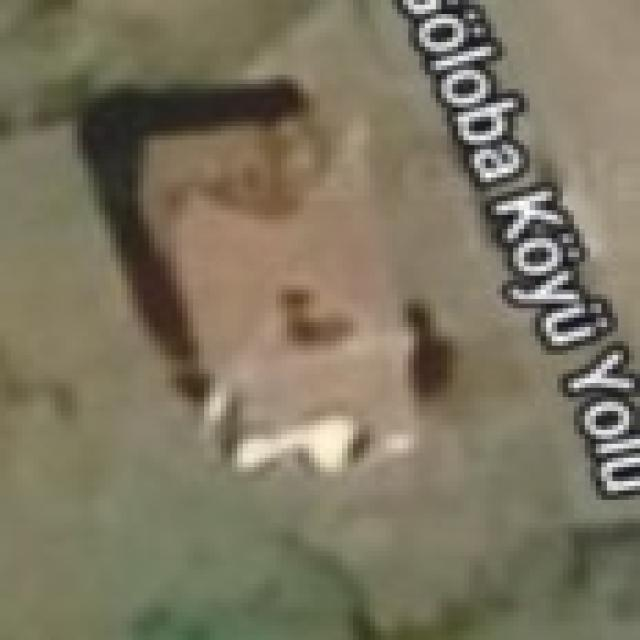Batiment: (140, 72, 450, 469)
